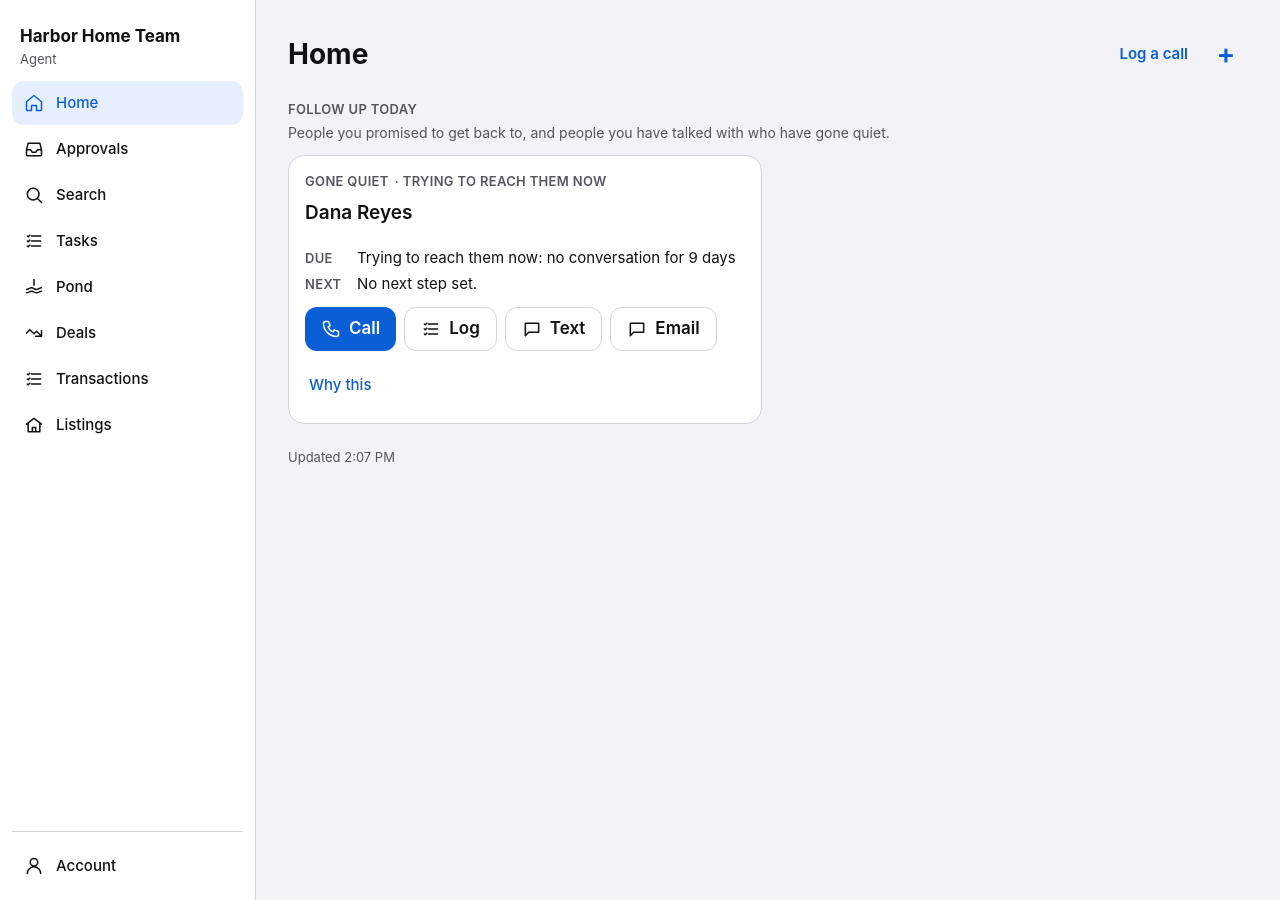
R-TODAY-10: the new controls on a phone › E856: a 24-character stage label is shown whole on the row, in its reason and in the Log sheet’s stage step: nothing truncates
expect the text with test id "card-stage" reads "Trying to reach them now": met, box x1=403 y1=172 x2=607 y2=188
Click the button with aria-label "Log for Dana Reyes" at (450, 329), box x1=404 y1=307 x2=497 y2=351
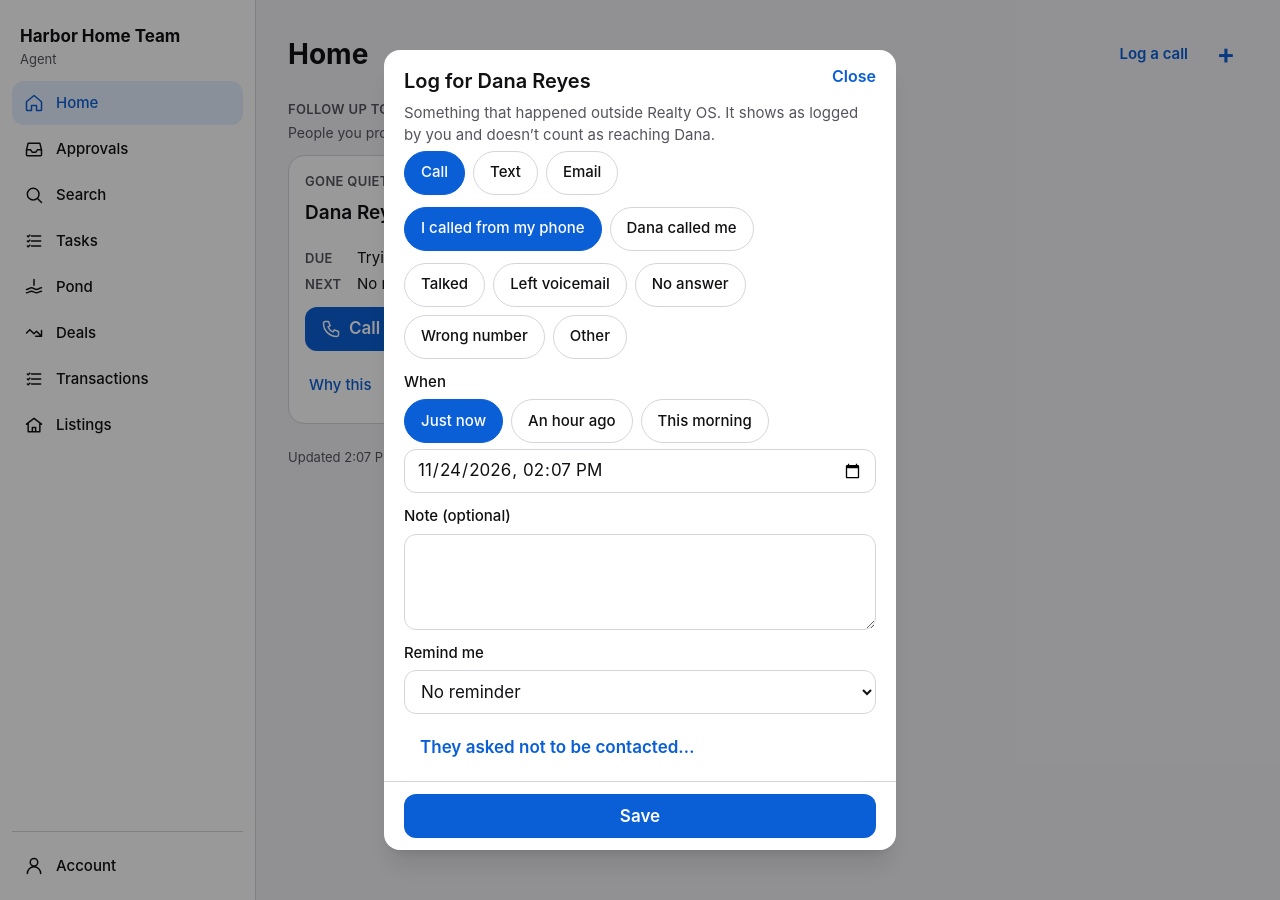
Click the button "No answer" at (690, 285), box x1=635 y1=263 x2=746 y2=307
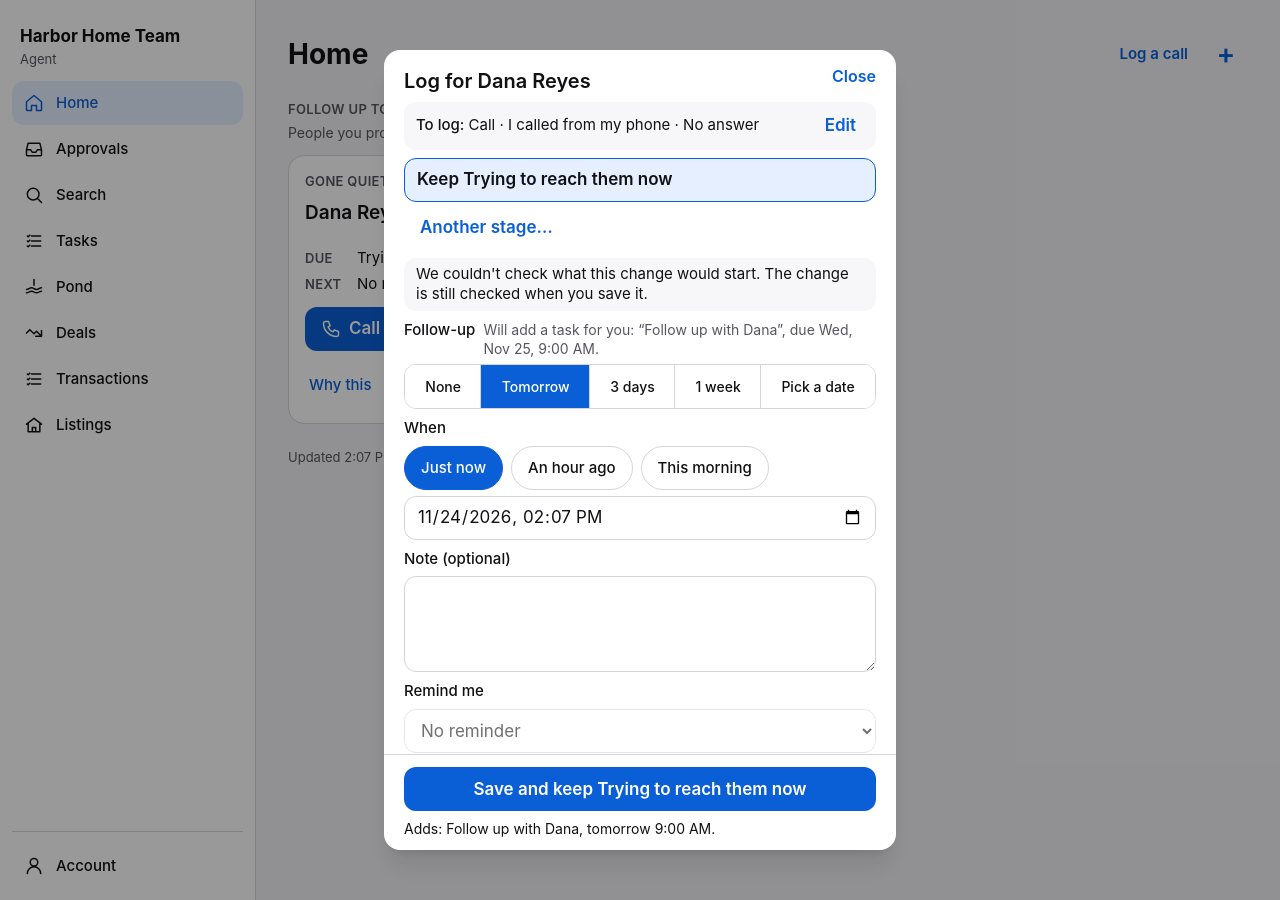
expect the text with test id "tap-effects" reads "Adds: Follow up with Dana, tomorrow 9:00 AM.": met, box x1=404 y1=820 x2=715 y2=837
